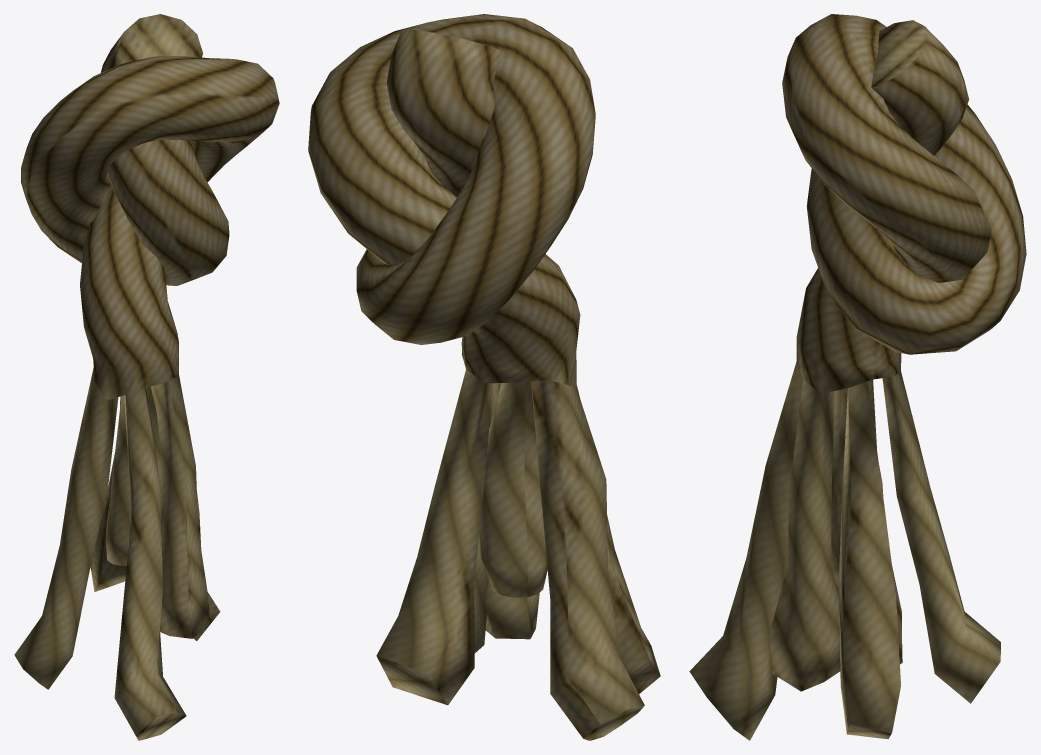
3 views of the same model, side by side, from view 1: azimuth 30°, elevation 25°; view 2: azimuth 150°, elevation 25°; view 3: azimuth 270°, elevation 25° (orthographic). The views are drawn at different scales.
Parts seen in each view (by area): view 1: Line102_Material_0_0; view 2: Line102_Material_0_0; view 3: Line102_Material_0_0.
Boxes of the visible parts, x1=… form: Line102_Material_0_0: x1=14, y1=14, x2=279, y2=740; Line102_Material_0_0: x1=308, y1=14, x2=660, y2=740; Line102_Material_0_0: x1=689, y1=14, x2=1026, y2=740.
Bounding box in the file's own units: 0.071 × 0.1626 × 0.0667.
1 material, 1 textured.
